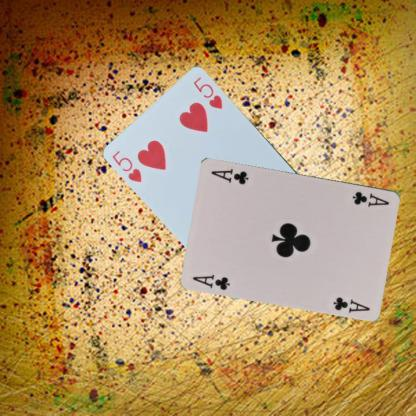5h: (110, 147, 144, 184)
Ac: (350, 188, 391, 208), (190, 272, 232, 291)
